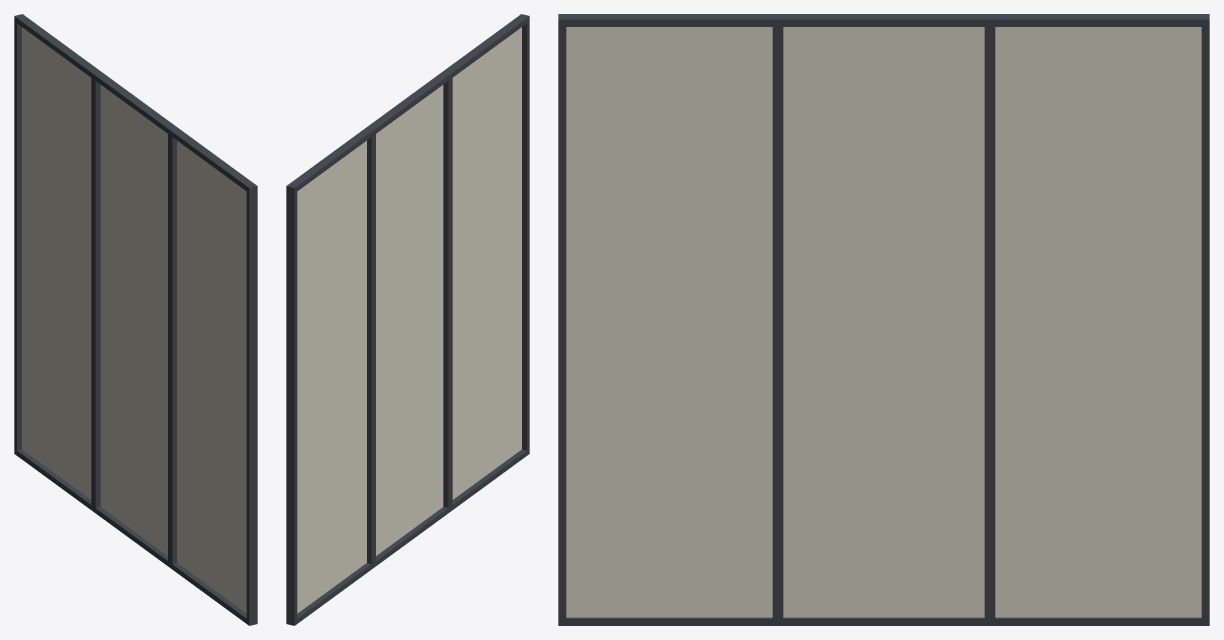
The model's file is Nebbiolo_Sidewall_Polycarbonate_Cream_Right.glb.
3 renders of one model, left to right at view 1: azimuth 30°, elevation 25°; view 2: azimuth 150°, elevation 25°; view 3: azimuth 270°, elevation 25°, orthographic. The views are drawn at different scales.
Visible parts, largest first — view 1: sidewall_polycarbonate_cream_right_400_250; view 2: sidewall_polycarbonate_cream_right_400_250; view 3: sidewall_polycarbonate_cream_right_400_250.
Part boxes in pixels (x1,y1,x2,y2): sidewall_polycarbonate_cream_right_400_250: (14, 14, 257, 625); sidewall_polycarbonate_cream_right_400_250: (286, 14, 529, 625); sidewall_polycarbonate_cream_right_400_250: (558, 14, 1209, 625).
Size of the model in its own units: 0.0501 by 2.5 by 2.44.
Materials: 2 (2 with a texture image).
